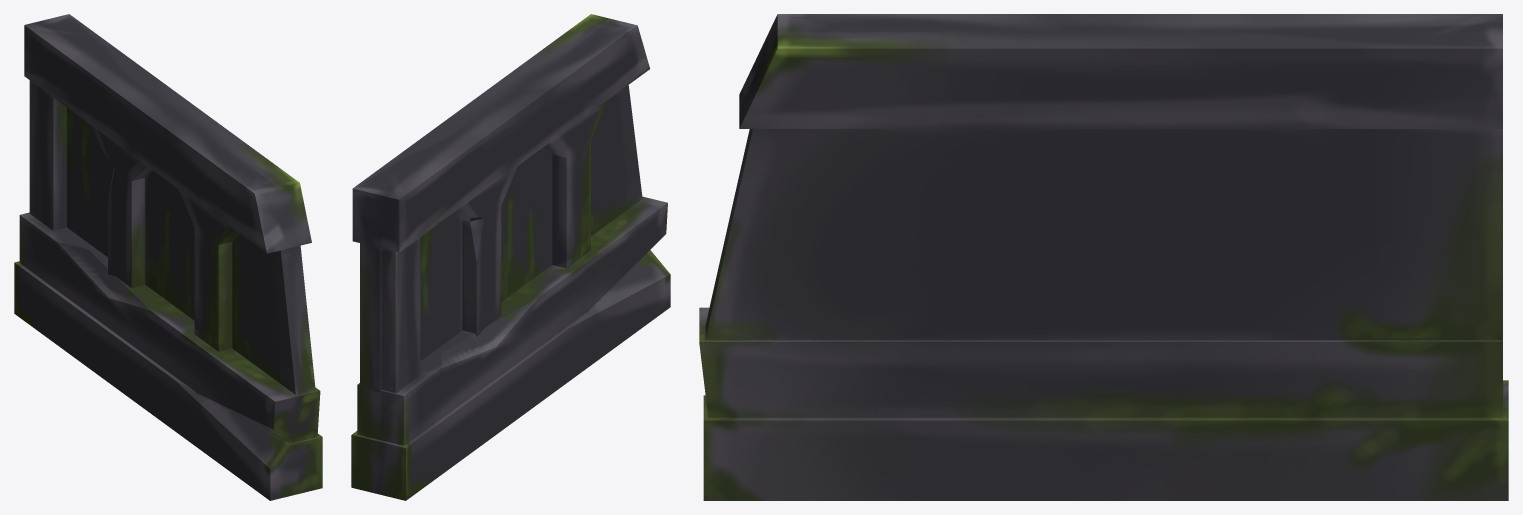
File: SmallWall2.fbx
3 views of the same model, side by side, from view 1: azimuth 30°, elevation 25°; view 2: azimuth 150°, elevation 25°; view 3: azimuth 270°, elevation 25° (orthographic). The views are drawn at different scales.
Visible parts, largest first — view 1: arch_pillar; view 2: arch_pillar; view 3: arch_pillar.
Part boxes in pixels (x1=…): arch_pillar: x1=14, y1=14, x2=322, y2=500; arch_pillar: x1=351, y1=14, x2=670, y2=500; arch_pillar: x1=699, y1=14, x2=1508, y2=500.
Size of the model in its own units: 21.99 by 113 by 184.
